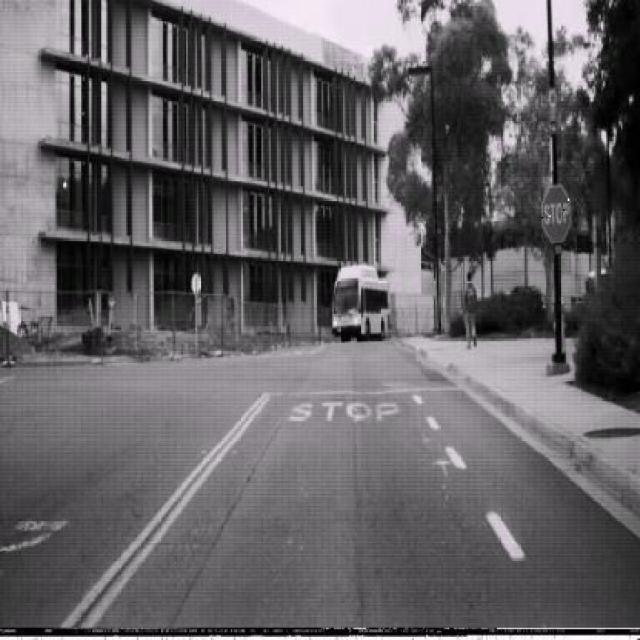stop: (542, 183, 572, 245)
